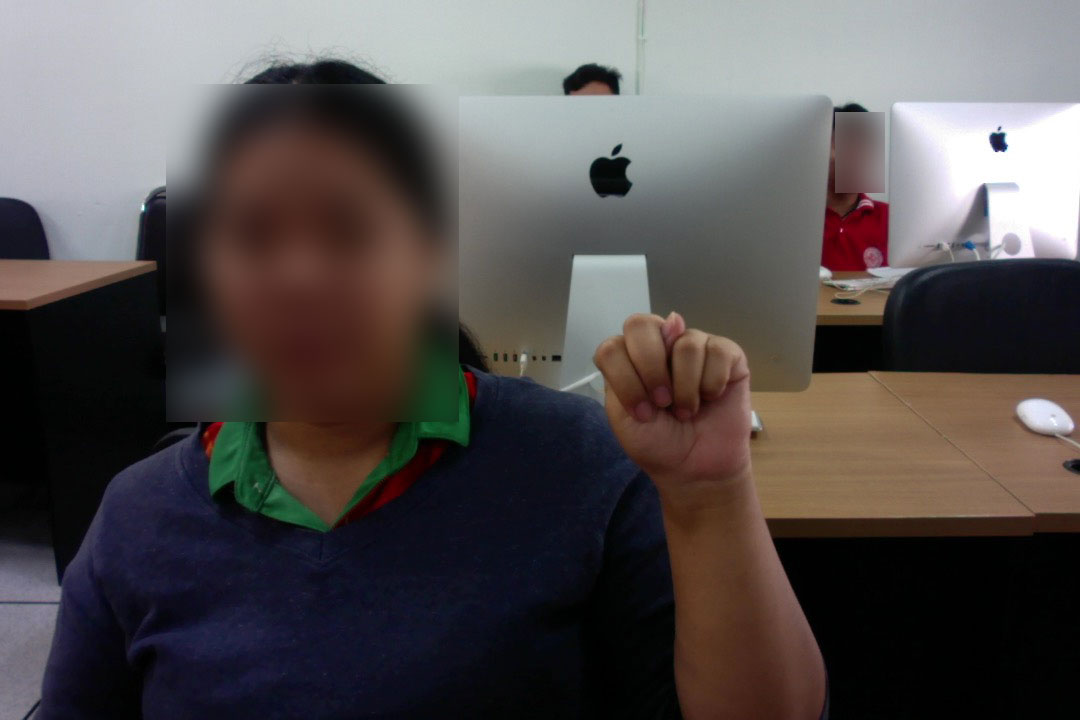nor: (588, 304, 761, 494)
